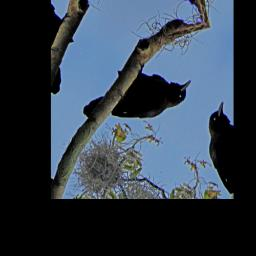Crow: (80, 35, 194, 160)
